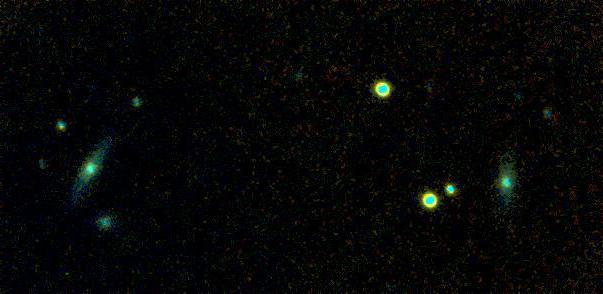star: (49, 256, 79, 286)
